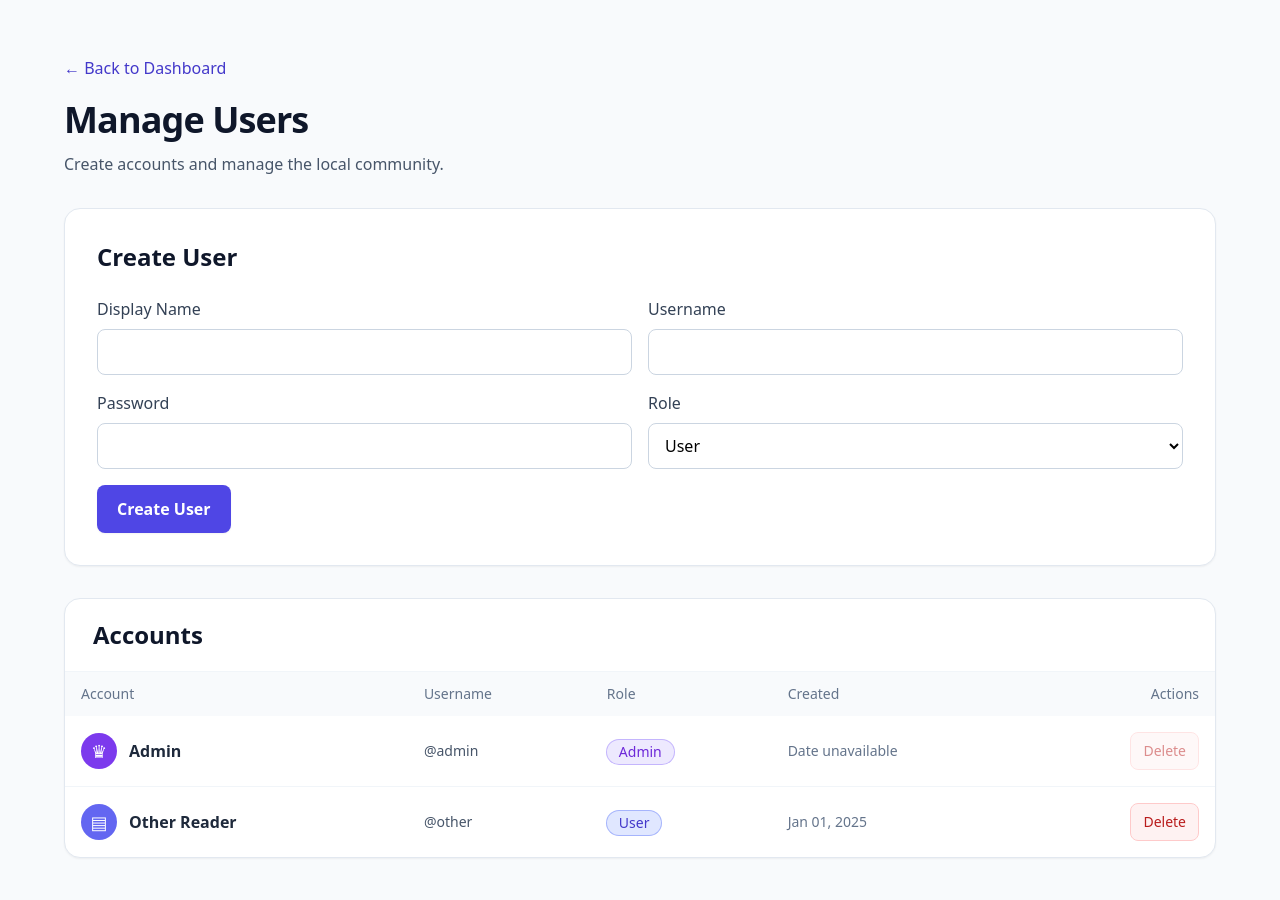
user management › shows an error and preserves an account when deletion cannot be saved
Click the button with aria-label "Delete Other Reader" at [1165, 822], box [1130,803,1199,841]
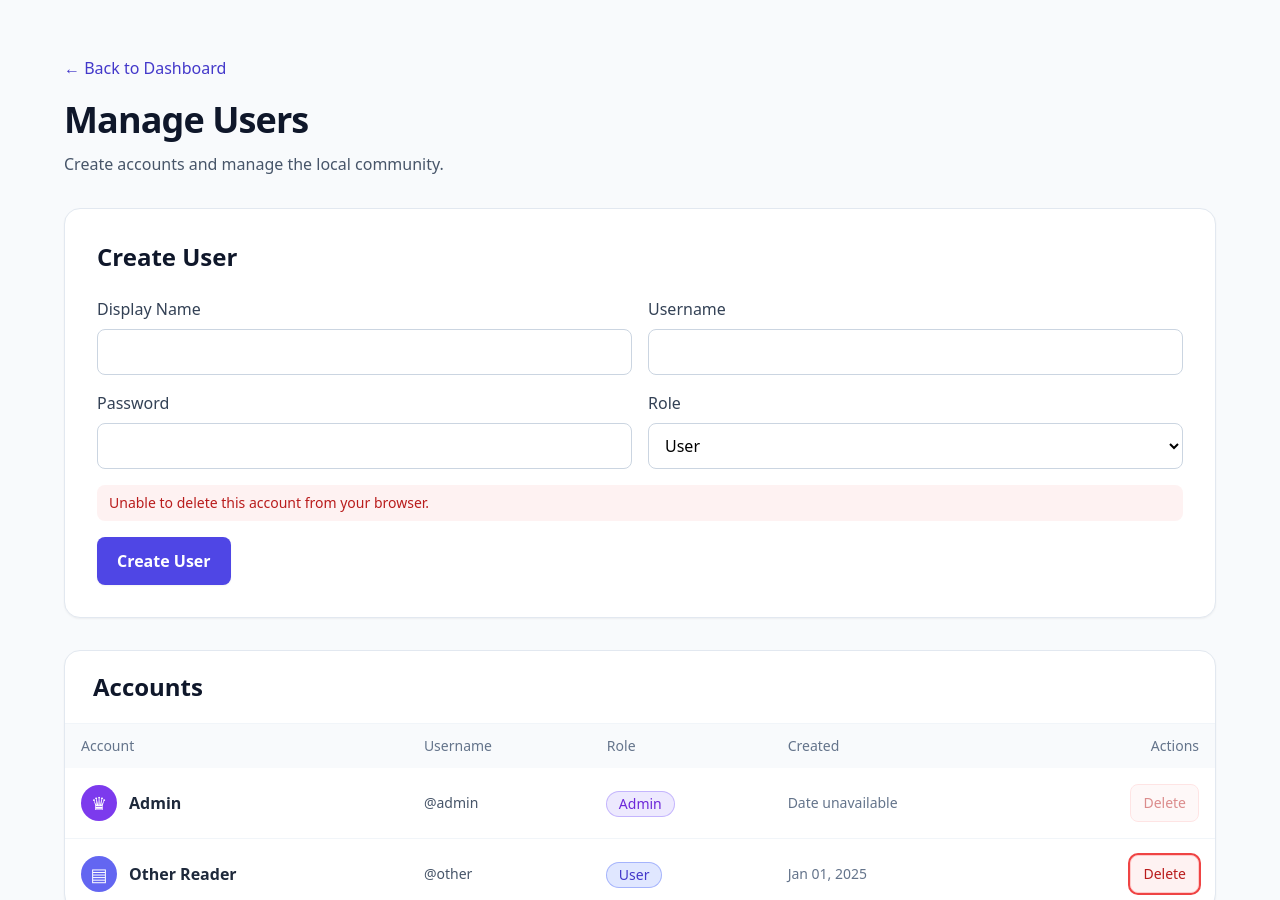
Expected: the text "Other Reader" is shown, [129,862,237,886]
Now the message reads "Unable to delete this account from your browser.", box [109,493,429,512]
